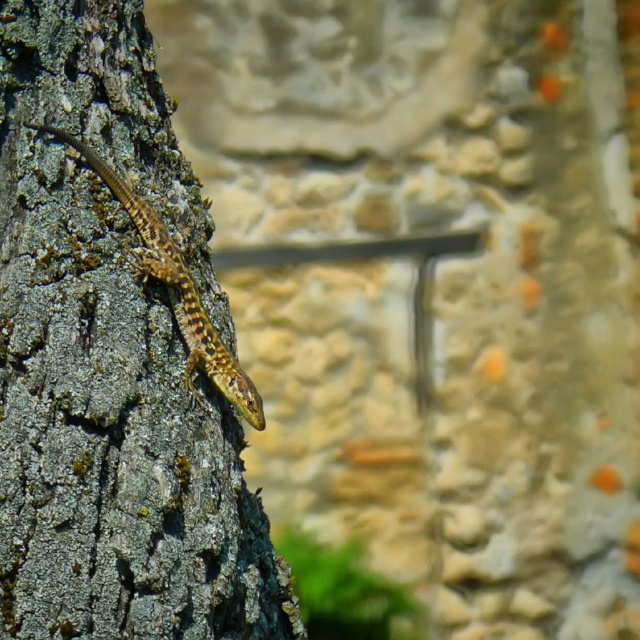Lizard: (22, 121, 268, 441)
